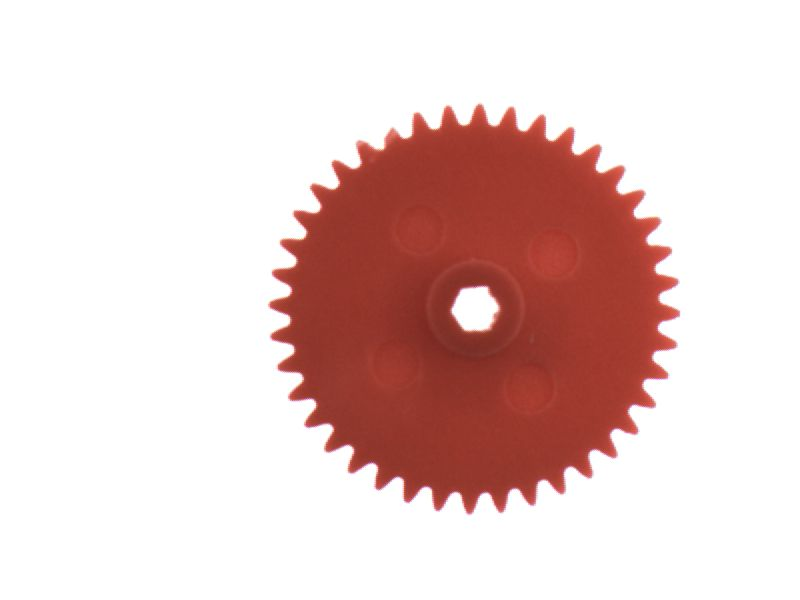defect_break: (367, 117, 411, 150)
